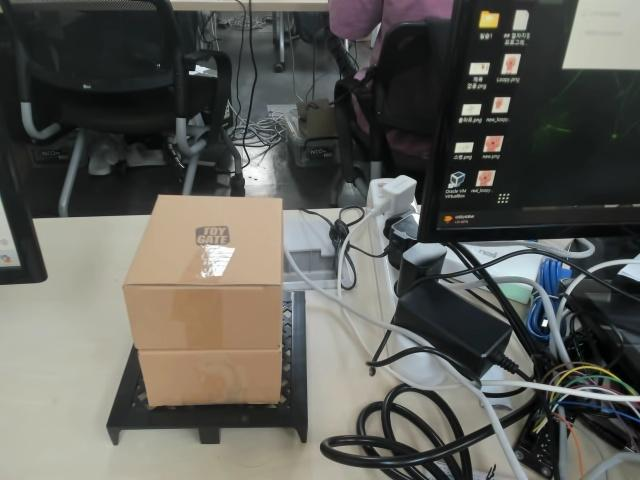box: (104, 192, 311, 445)
